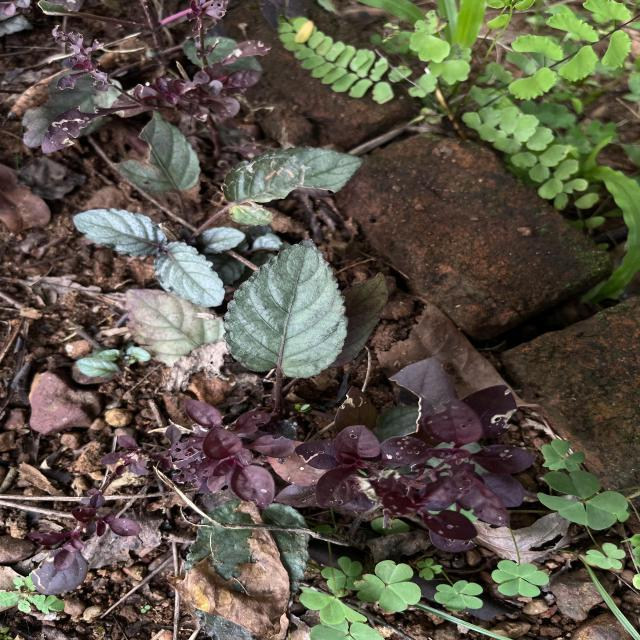Hemigraphis colorata: (219, 235, 352, 383), (152, 238, 229, 310), (70, 206, 168, 262)
